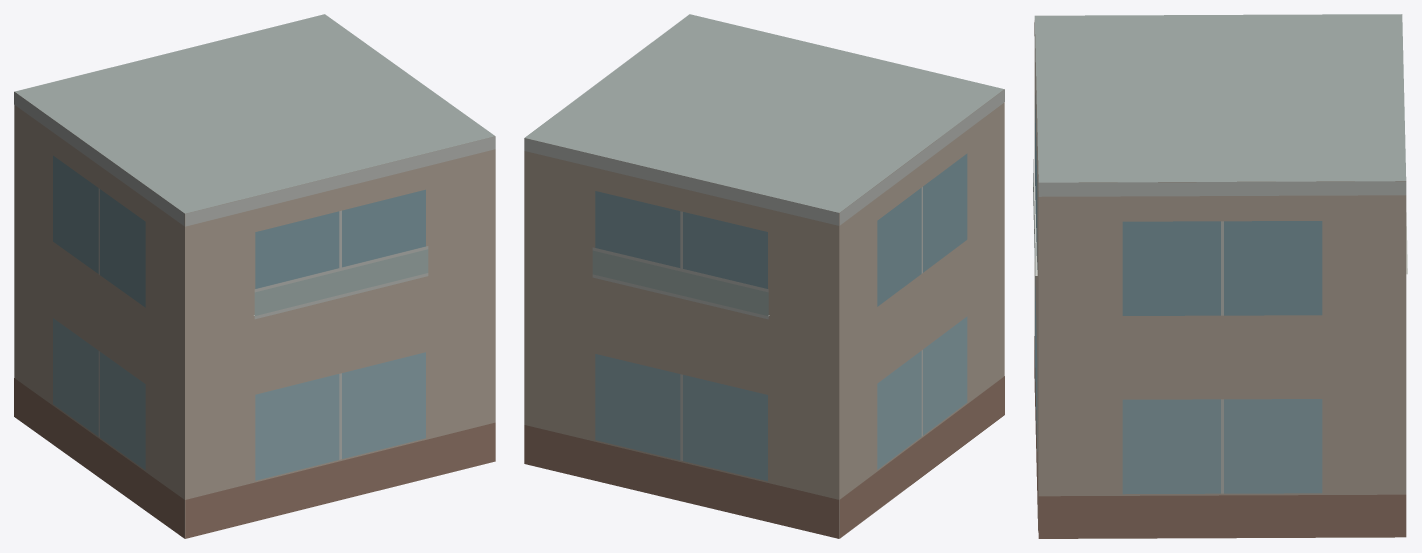
Rendered from survey-upis-33006441.glb.
The picture shows the model from 3 angles, left to right: view 1: azimuth 30°, elevation 25°; view 2: azimuth 150°, elevation 25°; view 3: azimuth 270°, elevation 25°; orthographic projection. The views are drawn at different scales.
Parts seen in each view (by area): view 1: survey-upis-33006441.tmp; view 2: survey-upis-33006441.tmp; view 3: survey-upis-33006441.tmp.
Part boxes in pixels (<box>): survey-upis-33006441.tmp: <box>14,14,495,538</box>; survey-upis-33006441.tmp: <box>524,14,1004,538</box>; survey-upis-33006441.tmp: <box>1033,14,1407,538</box>.
Size of the model in its own units: 6.2 by 6.1 by 5.82.
